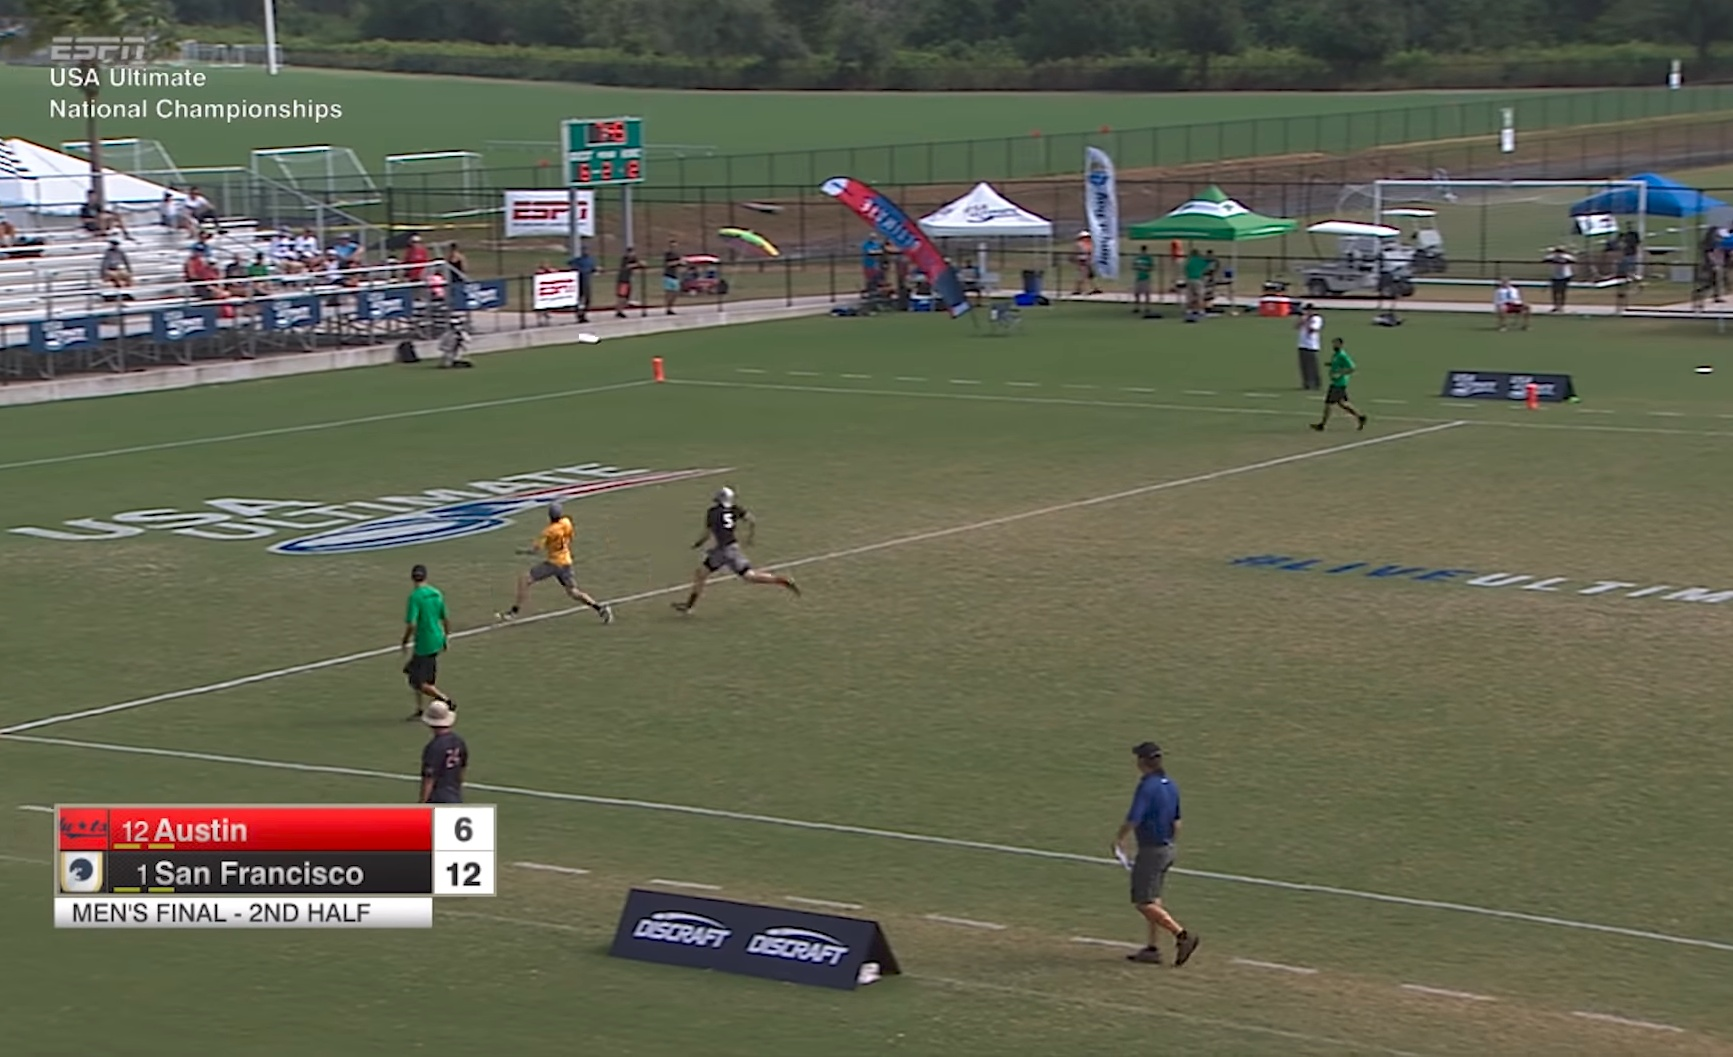frisbee: (578, 332, 602, 344), (1693, 366, 1713, 373)
